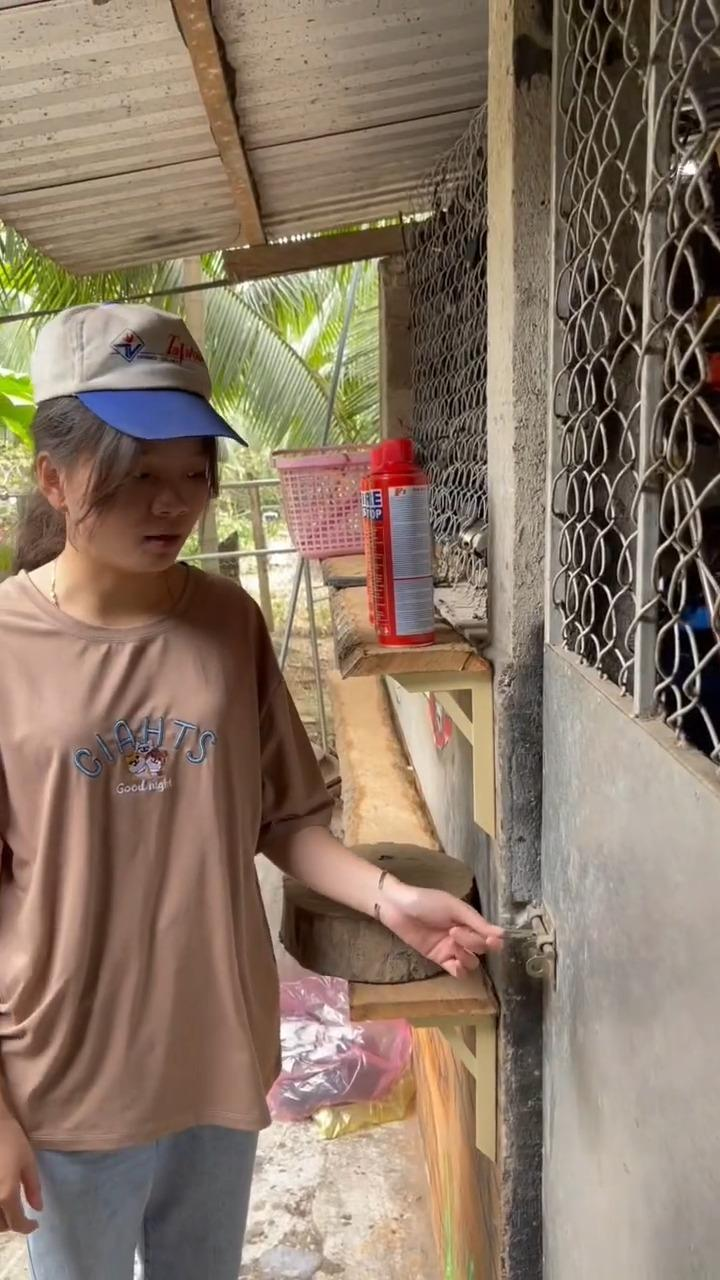FireExtinguisher: (366, 433, 433, 651)
